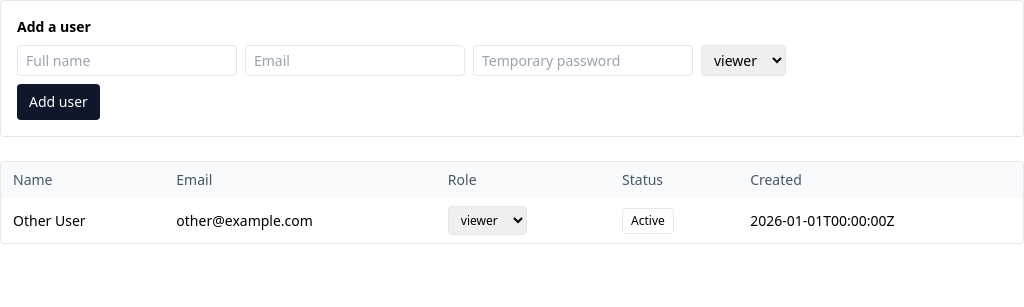
UsersPage › creates a user and reflects it in the list
This screenshot has width=1024, height=307.
Expected: the table is shown, [1, 162, 1023, 243]
Step 1. Type "New Analyst" into the field with placeholder "Full name" → (127, 60), box [17, 45, 237, 76]
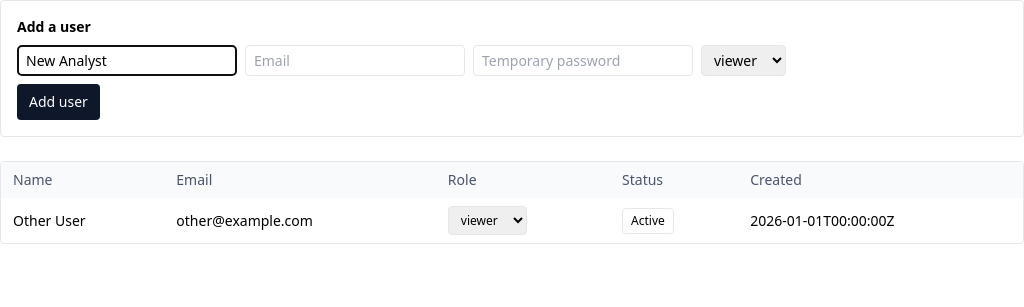
Step 2. Type "newanalyst@example.com" into the field with placeholder "Email" → (355, 60), box [245, 45, 465, 76]
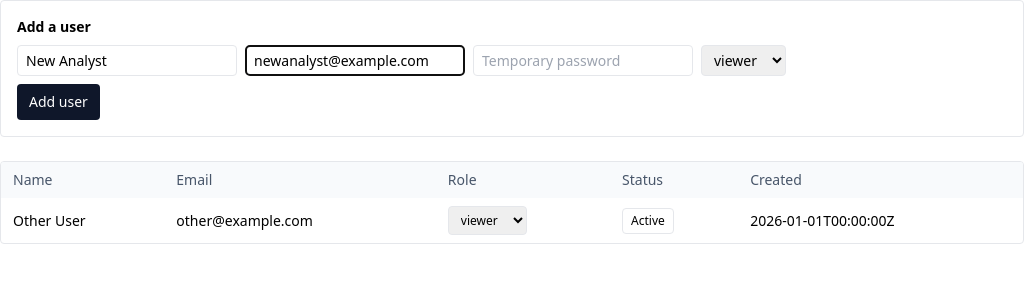
Step 3. Type "correct-horse-battery" into the password field with placeholder "Temporary password" → (583, 60), box [473, 45, 693, 76]
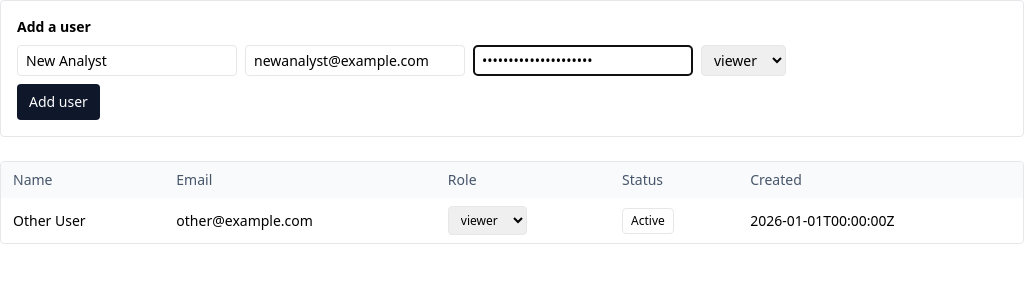
Step 4. Select "analyst" in the dropdown named "New user role" → (744, 60), box [701, 45, 786, 76]
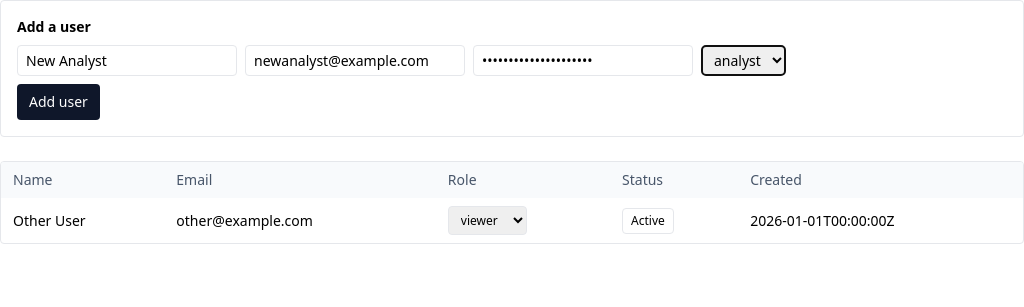
Step 5. Click the button "Add user" → (58, 102), box [17, 84, 100, 120]
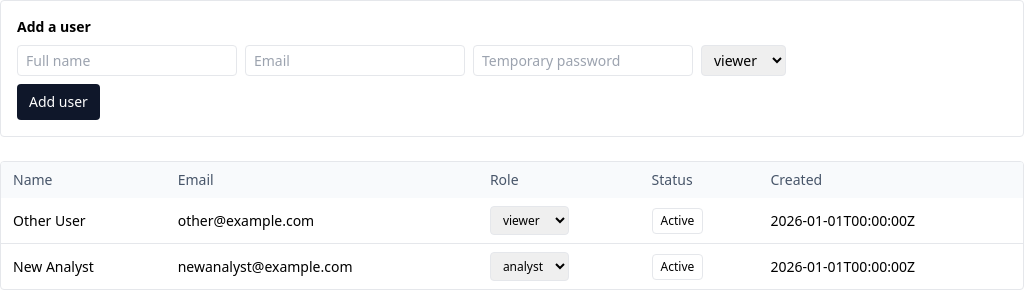
Expected: the text "newanalyst@example.com" is shown, [166, 244, 478, 289]
